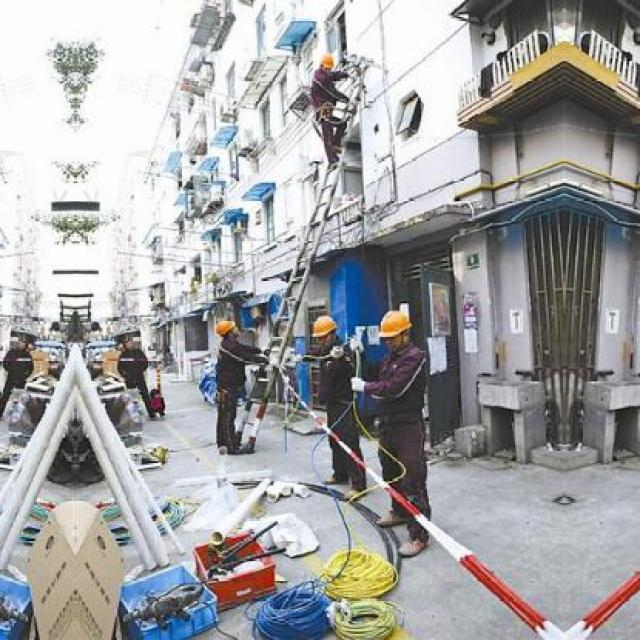helmet: (377, 304, 411, 350), (308, 314, 338, 354), (213, 317, 242, 338), (316, 49, 333, 74)
